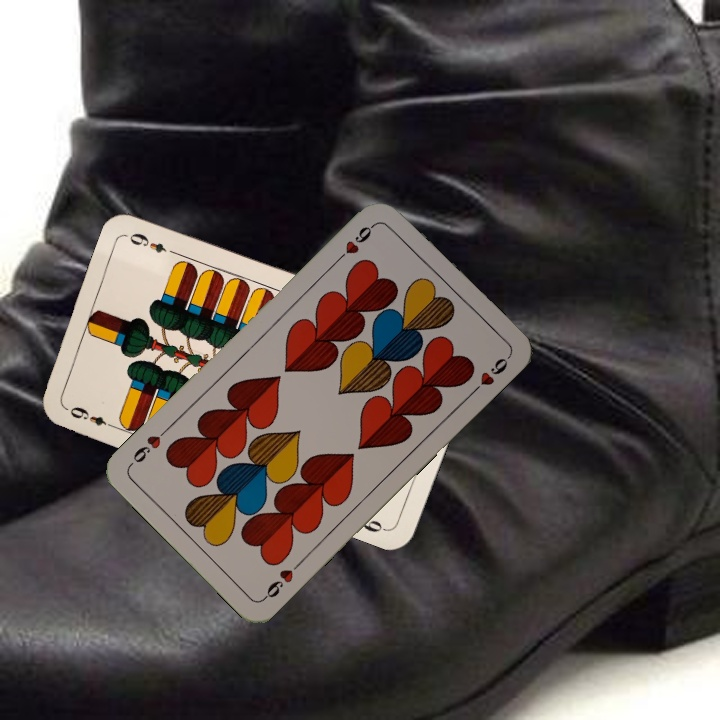E9: (61, 402, 118, 431)
H9: (332, 219, 379, 265), (259, 557, 305, 603)
